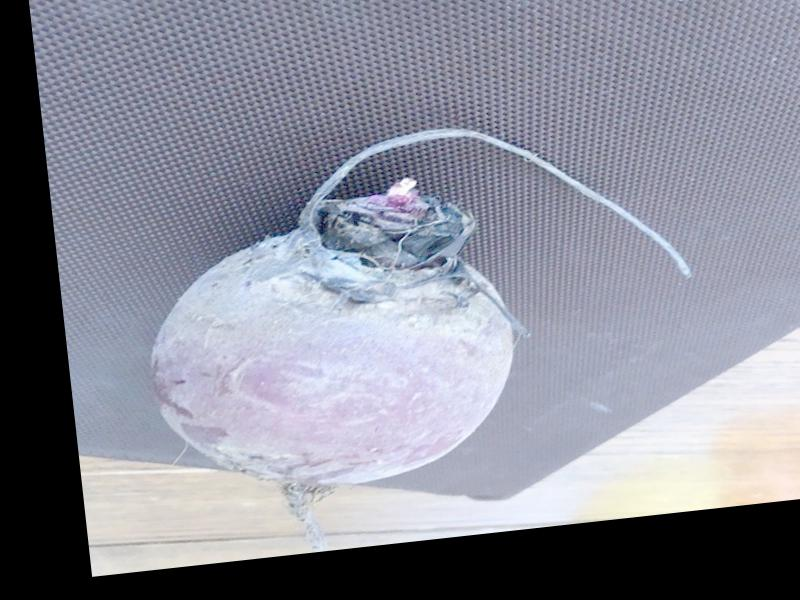Beet: (126, 103, 717, 566)
